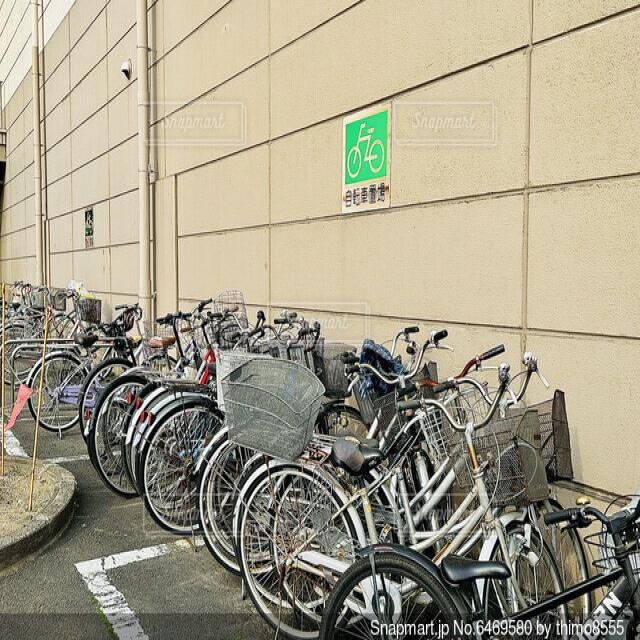basket: (224, 358, 325, 463), (447, 418, 548, 505)
